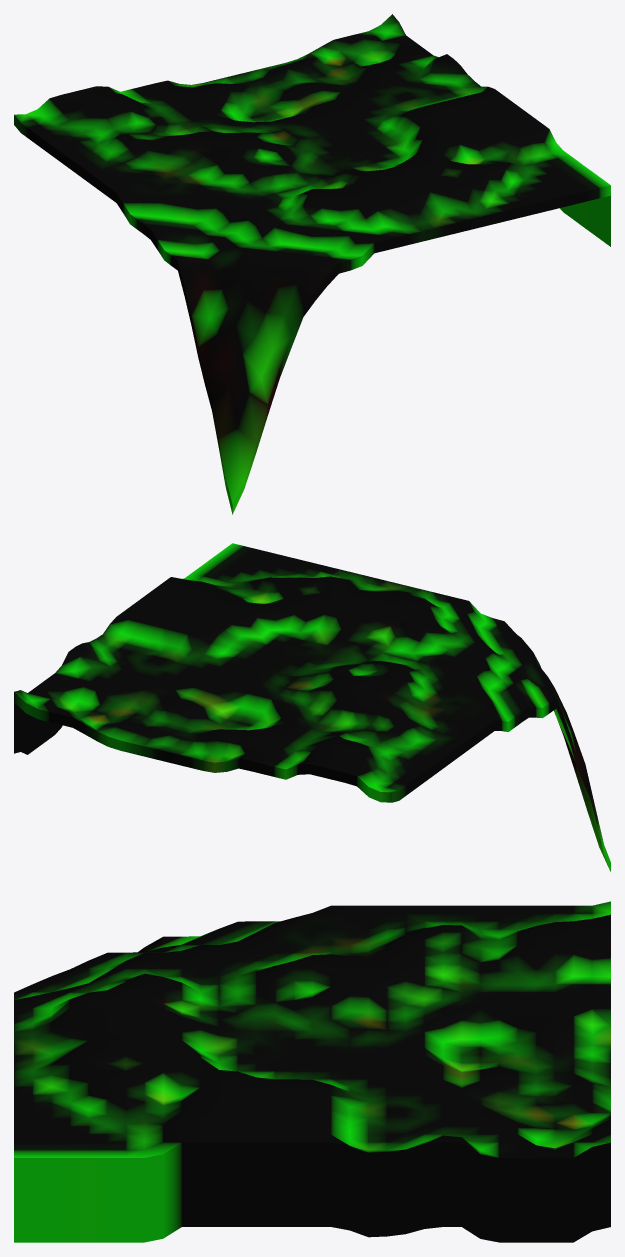
File: Terrain_01_00.fbx
The picture shows the model from 3 angles, top to bottom: view 1: azimuth 30°, elevation 25°; view 2: azimuth 150°, elevation 25°; view 3: azimuth 270°, elevation 25°; orthographic projection. The views are drawn at different scales.
Visible parts, largest first — view 1: Terrain_01_00_LOD0; view 2: Terrain_01_00_LOD0; view 3: Terrain_01_00_LOD0.
Boxes of the visible parts, x1,y1,x2,y2 form: Terrain_01_00_LOD0: (14,14,610,514); Terrain_01_00_LOD0: (14,543,610,871); Terrain_01_00_LOD0: (14,901,610,1242).
Size of what is drawn, in the model's own units: 384 by 241 by 384.
